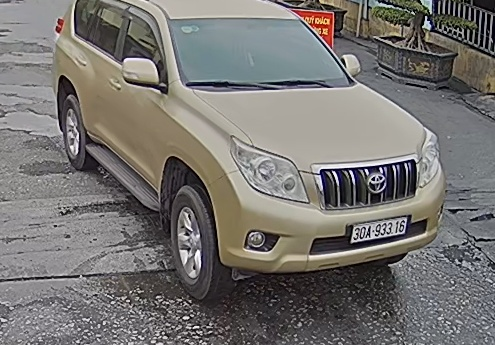vehicle plate: (349, 215, 410, 249)
